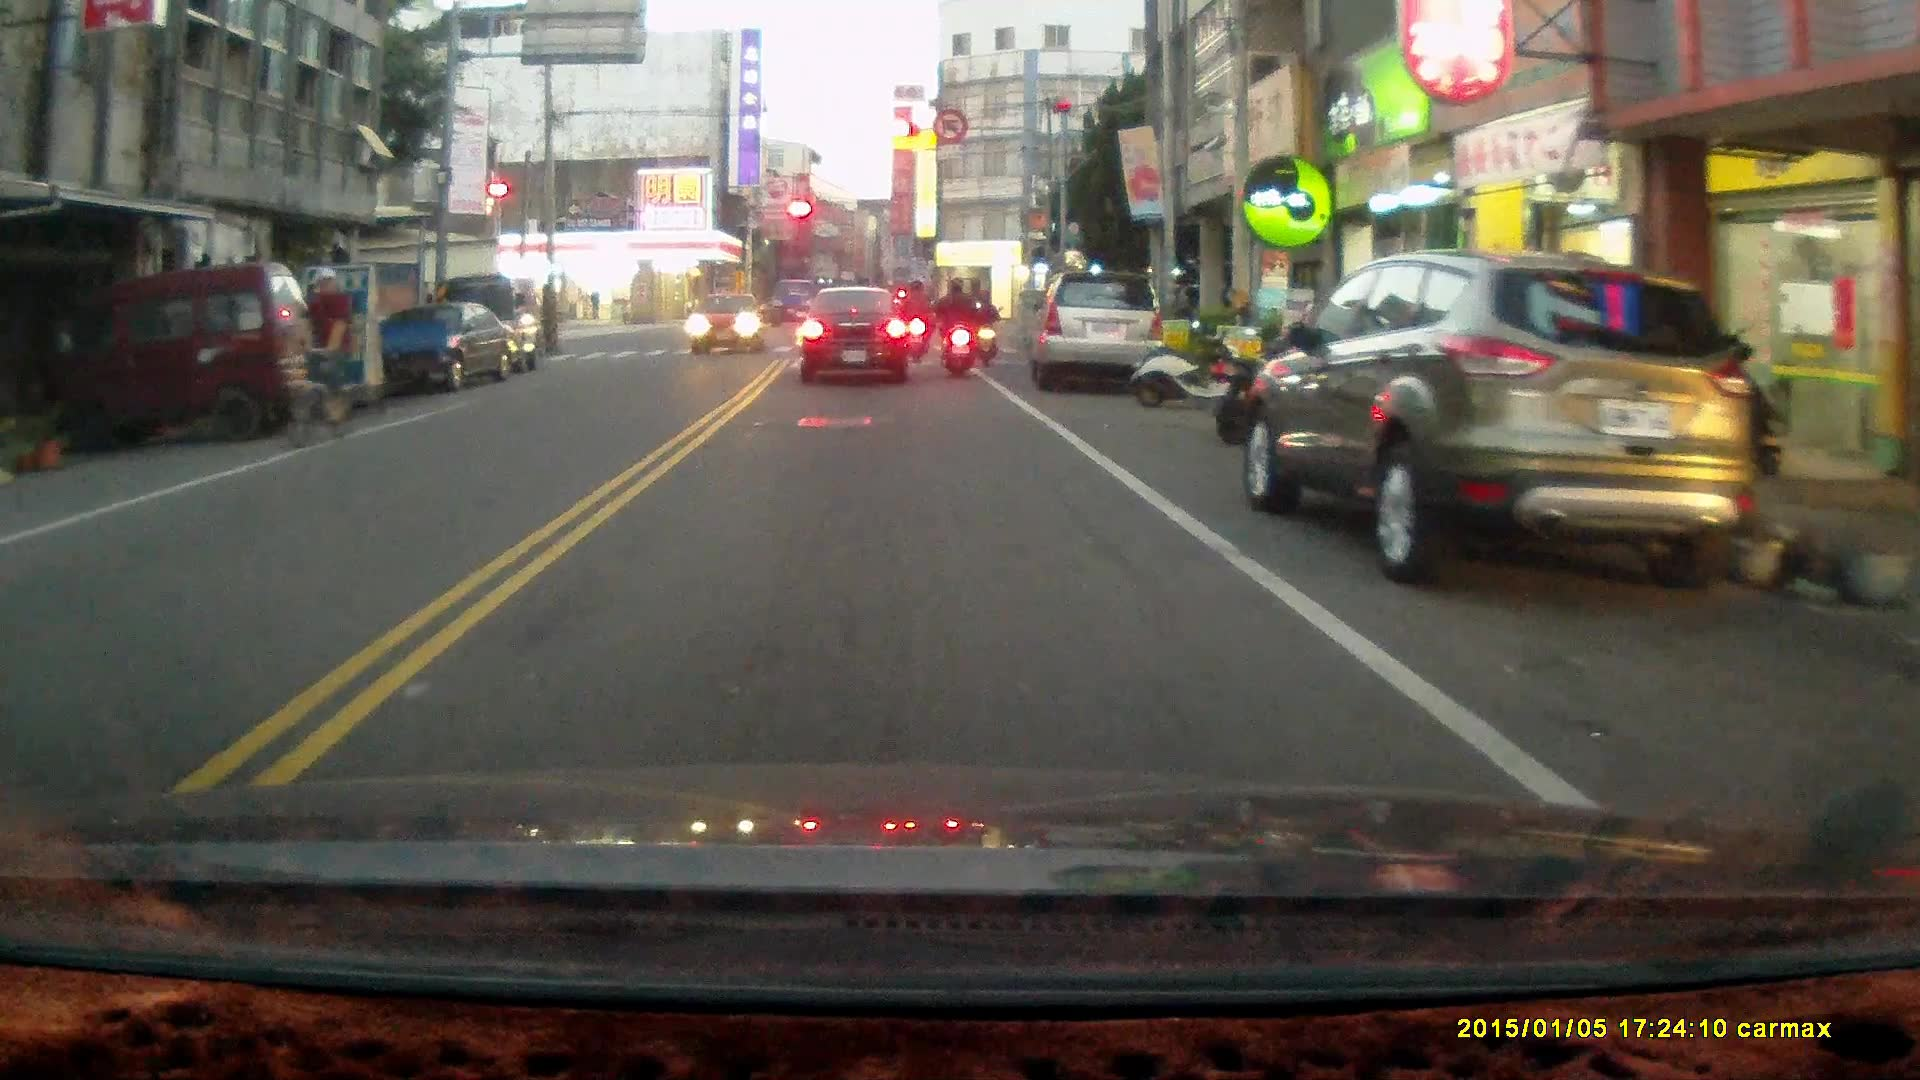rider: (282, 265, 355, 449), (930, 271, 979, 378), (895, 273, 931, 361), (970, 285, 1000, 366)
vehicle: (1242, 251, 1749, 593), (42, 260, 322, 444), (1026, 269, 1167, 395), (800, 281, 914, 386), (384, 297, 509, 392), (692, 290, 769, 357)
